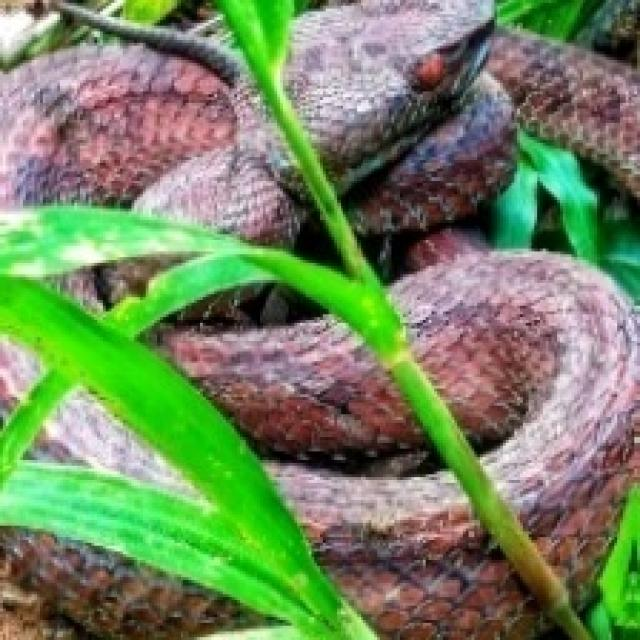philippine pitviper: (391, 251, 634, 606), (286, 0, 640, 233), (0, 45, 305, 243), (269, 463, 546, 637), (163, 317, 429, 471), (0, 531, 240, 637), (14, 383, 209, 503), (31, 249, 200, 320), (49, 394, 177, 486)
